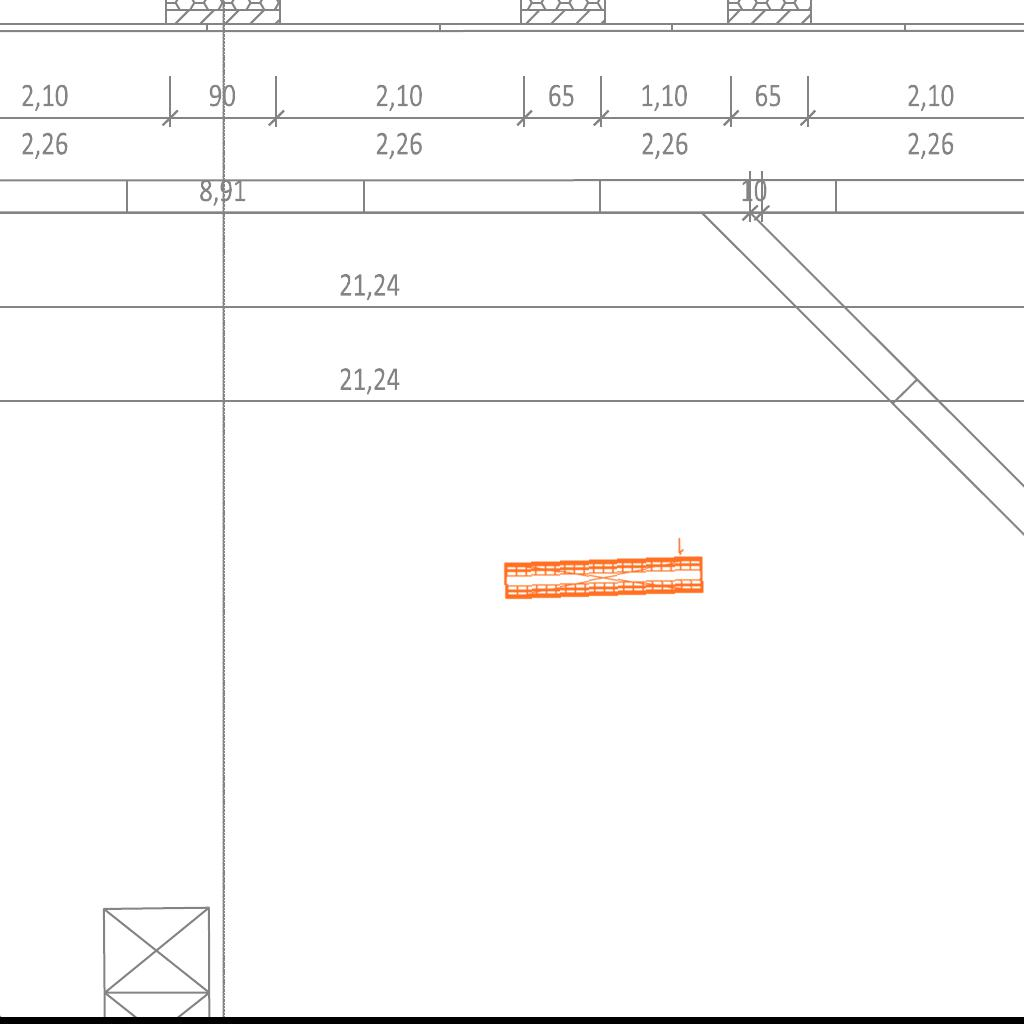Buero_Pendelleuchten_LED: (498, 532, 708, 605)
